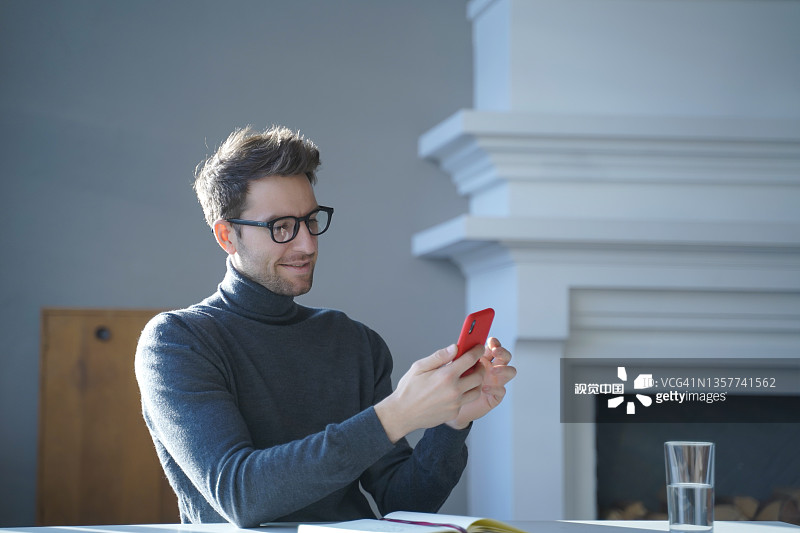reading: (373, 307, 541, 443)
